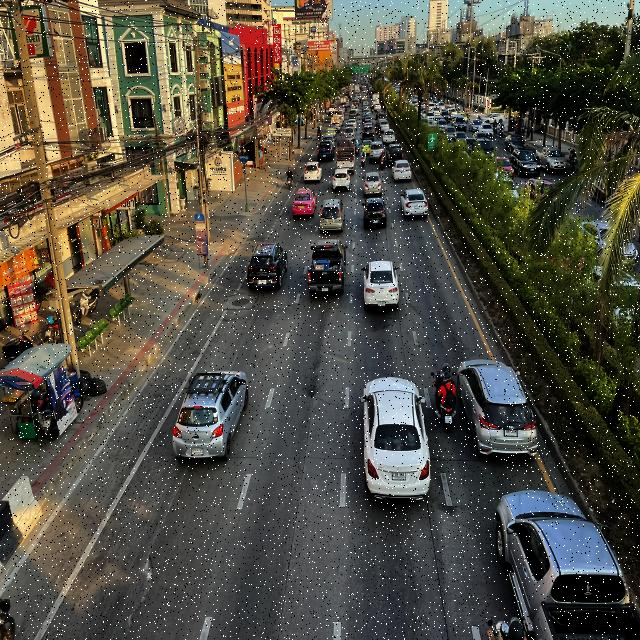bike: (431, 353, 464, 435)
truck: (303, 230, 354, 302)
